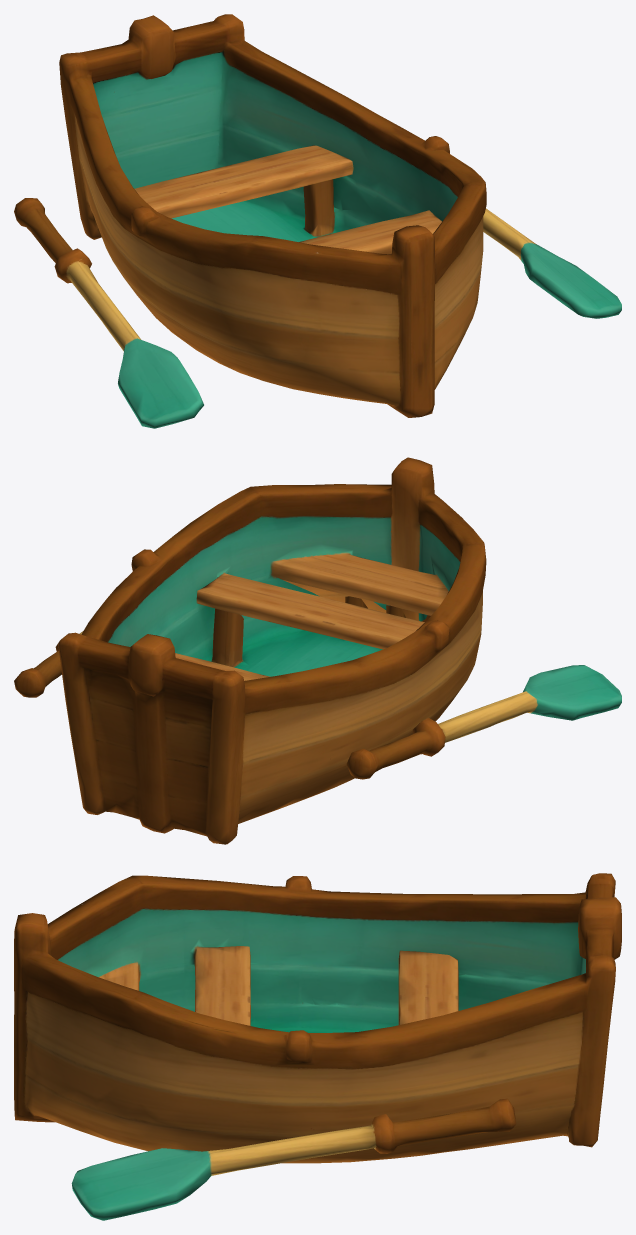
The model's file is rowboat.glb.
The picture shows the model from 3 angles, top to bottom: view 1: azimuth 30°, elevation 25°; view 2: azimuth 150°, elevation 25°; view 3: azimuth 270°, elevation 25°; orthographic projection. The views are drawn at different scales.
Parts seen in each view (by area): view 1: world; view 2: world; view 3: world.
Part boxes in pixels (box(x1,y1,x2,y2)): world: box(14, 14, 621, 428); world: box(14, 457, 621, 844); world: box(14, 873, 621, 1220).
Bounding box in the file's own units: 0.9848 × 0.3944 × 0.994.
Materials: 1 (1 with a texture image).
